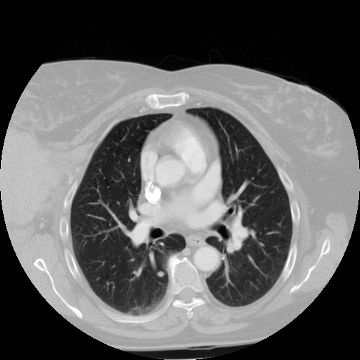nodule: (156, 270, 164, 278)
